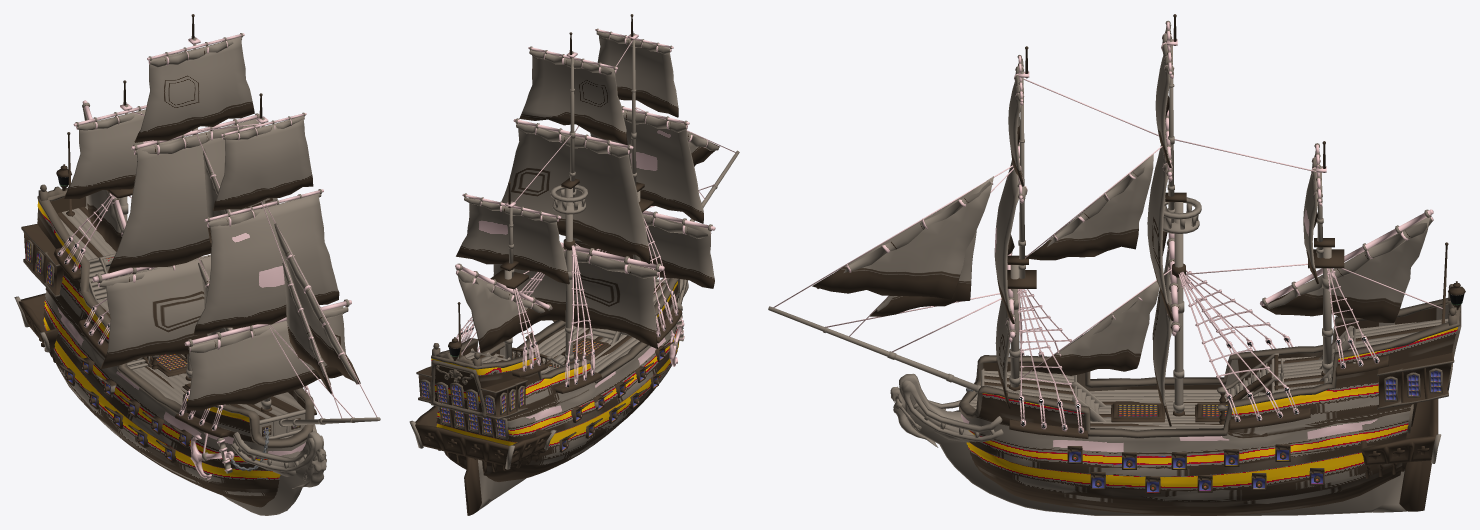
File: SM_Veh_Boat_Warship_01_Hull_Pirate.glb
The picture shows the model from 3 angles, left to right: view 1: azimuth 30°, elevation 25°; view 2: azimuth 150°, elevation 25°; view 3: azimuth 270°, elevation 25°; orthographic projection. The views are drawn at different scales.
Parts seen in each view (by area): view 1: SM_Veh_Boat_Warship_01_Hull_Pirate_00, SM_Veh_Boat_Warship_01_Hull_Pirate_07, SM_Veh_Boat_Warship_01_Hull_Pirate_05, SM_Veh_Boat_Warship_01_Hull_Pirate_12, SM_Veh_Boat_Warship_01_Hull_Pirate_09, SM_Veh_Boat_Warship_01_Hull_Pirate_10, SM_Veh_Boat_Warship_01_Hull_Pirate_03, SM_Veh_Boat_Warship_01_Hull_Pirate_13, SM_Veh_Boat_Warship_01_Hull_Pirate_04, SM_Veh_Boat_Warship_01_Hull_Pirate_02, SM_Veh_Boat_Warship_01_Hull_Pirate_06, SM_Veh_Boat_Warship_01_Hull_Pirate_11 (+2 smaller); view 2: SM_Veh_Boat_Warship_01_Hull_Pirate_00, SM_Veh_Boat_Warship_01_Hull_Pirate_07, SM_Veh_Boat_Warship_01_Hull_Pirate_05, SM_Veh_Boat_Warship_01_Hull_Pirate_12, SM_Veh_Boat_Warship_01_Hull_Pirate_06, SM_Veh_Boat_Warship_01_Hull_Pirate_10, SM_Veh_Boat_Warship_01_Hull_Pirate_03, SM_Veh_Boat_Warship_01_Hull_Pirate_11, SM_Veh_Boat_Warship_01_Hull_Pirate_04, SM_Veh_Boat_Warship_01_Hull_Pirate_02, SM_Veh_Boat_Warship_01_Hull_Pirate_01; view 3: SM_Veh_Boat_Warship_01_Hull_Pirate_00, SM_Veh_Boat_Warship_01_Hull_Pirate_08, SM_Veh_Boat_Warship_01_Hull_Pirate_09, SM_Veh_Boat_Warship_01_Hull_Pirate_10, SM_Veh_Boat_Warship_01_Hull_Pirate_12, SM_Veh_Boat_Warship_01_Hull_Pirate_06, SM_Veh_Boat_Warship_01_Hull_Pirate_07, SM_Veh_Boat_Warship_01_Hull_Pirate_05, SM_Veh_Boat_Warship_01_Hull_Pirate_11, SM_Veh_Boat_Warship_01_Hull_Pirate_04, SM_Veh_Boat_Warship_01_Hull_Pirate_13, SM_Veh_Boat_Warship_01_Hull_Pirate_01.
Part boxes in pixels (bbox=[...]): SM_Veh_Boat_Warship_01_Hull_Pirate_00: bbox=[14, 132, 380, 515]; SM_Veh_Boat_Warship_01_Hull_Pirate_07: bbox=[100, 37, 277, 369]; SM_Veh_Boat_Warship_01_Hull_Pirate_05: bbox=[186, 116, 345, 410]; SM_Veh_Boat_Warship_01_Hull_Pirate_12: bbox=[64, 109, 180, 251]; SM_Veh_Boat_Warship_01_Hull_Pirate_09: bbox=[274, 223, 360, 393]; SM_Veh_Boat_Warship_01_Hull_Pirate_10: bbox=[57, 110, 377, 430]; SM_Veh_Boat_Warship_01_Hull_Pirate_03: bbox=[98, 37, 242, 380]; SM_Veh_Boat_Warship_01_Hull_Pirate_13: bbox=[198, 153, 358, 384]; SM_Veh_Boat_Warship_01_Hull_Pirate_04: bbox=[184, 93, 351, 411]; SM_Veh_Boat_Warship_01_Hull_Pirate_02: bbox=[189, 116, 348, 352]; SM_Veh_Boat_Warship_01_Hull_Pirate_06: bbox=[92, 14, 259, 380]; SM_Veh_Boat_Warship_01_Hull_Pirate_11: bbox=[73, 80, 146, 276]; SM_Veh_Boat_Warship_01_Hull_Pirate_00: bbox=[409, 150, 739, 515]; SM_Veh_Boat_Warship_01_Hull_Pirate_07: bbox=[493, 50, 657, 348]; SM_Veh_Boat_Warship_01_Hull_Pirate_05: bbox=[573, 31, 714, 288]; SM_Veh_Boat_Warship_01_Hull_Pirate_12: bbox=[456, 198, 569, 352]; SM_Veh_Boat_Warship_01_Hull_Pirate_06: bbox=[513, 32, 664, 363]; SM_Veh_Boat_Warship_01_Hull_Pirate_10: bbox=[456, 40, 735, 387]; SM_Veh_Boat_Warship_01_Hull_Pirate_03: bbox=[516, 50, 658, 363]; SM_Veh_Boat_Warship_01_Hull_Pirate_11: bbox=[455, 182, 561, 359]; SM_Veh_Boat_Warship_01_Hull_Pirate_04: bbox=[595, 14, 715, 266]; SM_Veh_Boat_Warship_01_Hull_Pirate_02: bbox=[596, 31, 711, 238]; SM_Veh_Boat_Warship_01_Hull_Pirate_01: bbox=[456, 197, 558, 313]; SM_Veh_Boat_Warship_01_Hull_Pirate_00: bbox=[768, 242, 1465, 515]; SM_Veh_Boat_Warship_01_Hull_Pirate_08: bbox=[1026, 154, 1159, 375]; SM_Veh_Boat_Warship_01_Hull_Pirate_09: bbox=[812, 176, 993, 316]; SM_Veh_Boat_Warship_01_Hull_Pirate_10: bbox=[773, 78, 1442, 433]; SM_Veh_Boat_Warship_01_Hull_Pirate_12: bbox=[1261, 158, 1430, 322]; SM_Veh_Boat_Warship_01_Hull_Pirate_06: bbox=[1163, 14, 1201, 416]; SM_Veh_Boat_Warship_01_Hull_Pirate_07: bbox=[1147, 24, 1173, 426]; SM_Veh_Boat_Warship_01_Hull_Pirate_05: bbox=[994, 59, 1023, 408]; SM_Veh_Boat_Warship_01_Hull_Pirate_11: bbox=[1260, 141, 1433, 376]; SM_Veh_Boat_Warship_01_Hull_Pirate_04: bbox=[1007, 46, 1036, 390]; SM_Veh_Boat_Warship_01_Hull_Pirate_13: bbox=[817, 157, 1149, 356]; SM_Veh_Boat_Warship_01_Hull_Pirate_01: bbox=[1266, 149, 1433, 309].
Size of the model in its own units: 14.59 by 31.5 by 39.75.
Materials: 1 (1 with a texture image).
